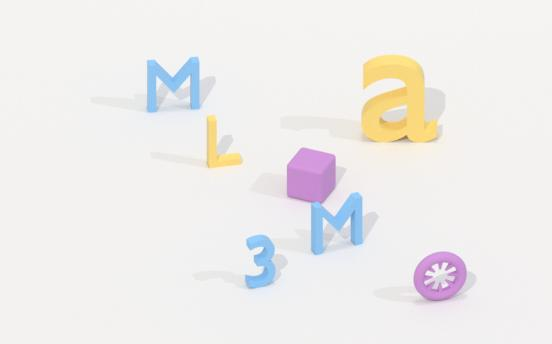3: (246, 227, 279, 291)
M-hoa: (144, 54, 203, 119), (309, 194, 366, 256)
a: (360, 52, 443, 145)
hop: (284, 145, 339, 207)
l: (206, 111, 244, 172)
tron: (414, 246, 470, 304)
